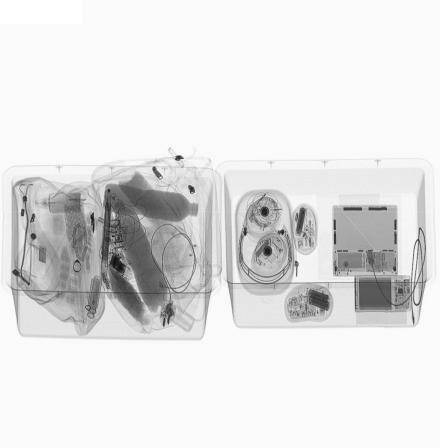Powerbank: (284, 284, 334, 323)
